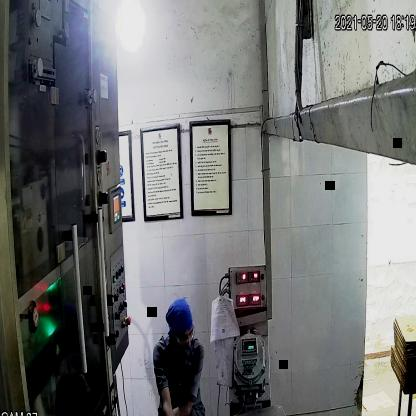goggles: (168, 328, 199, 349)
